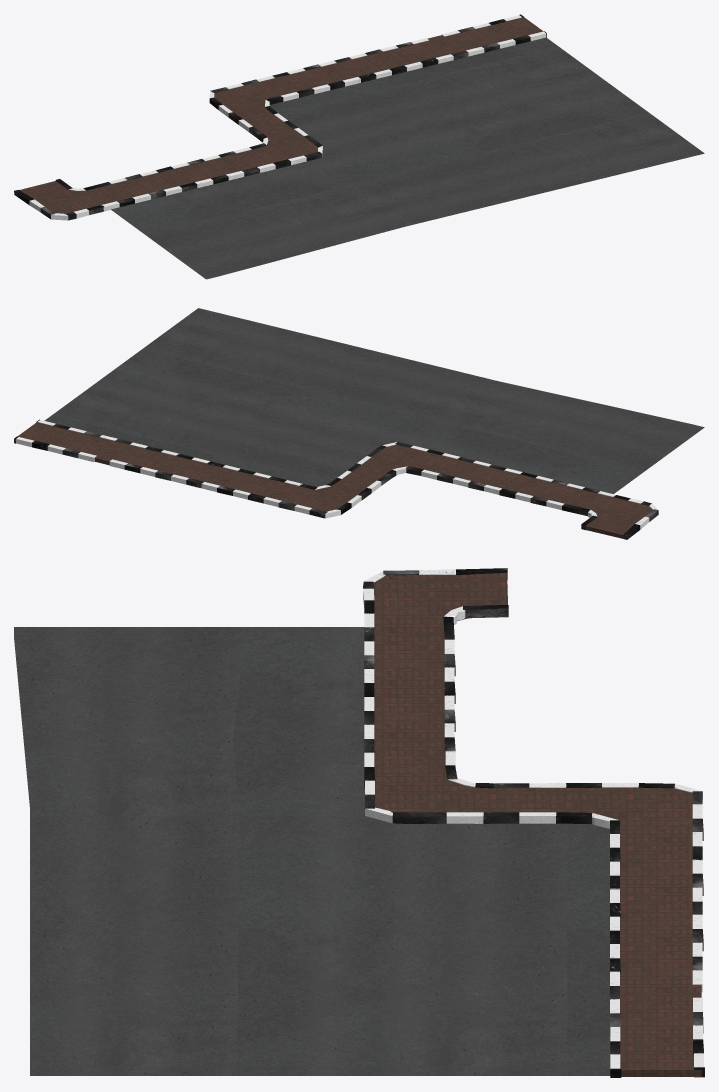
File: Pathway beside trres.fbx
3 renders of one model, top to bottom at view 1: azimuth 30°, elevation 25°; view 2: azimuth 150°, elevation 25°; view 3: azimuth 270°, elevation 25°, orthographic. The views are drawn at different scales.
Parts seen in each view (by area): view 1: polySurface437, polySurface438; view 2: polySurface437, polySurface438; view 3: polySurface437, polySurface438, polySurface388, polySurface401.
Part boxes in pixels (<box>): polySurface437: <box>111,37,704,279</box>; polySurface438: <box>19,17,543,214</box>; polySurface437: <box>44,308,704,493</box>; polySurface438: <box>17,422,652,538</box>; polySurface437: <box>14,627,610,1075</box>; polySurface438: <box>373,573,701,1076</box>; polySurface388: <box>483,812,556,823</box>; polySurface401: <box>410,812,483,823</box>.
Size of the model in its own units: 23.71 by 0.2067 by 13.82.
Materials: 4 (4 with a texture image).
